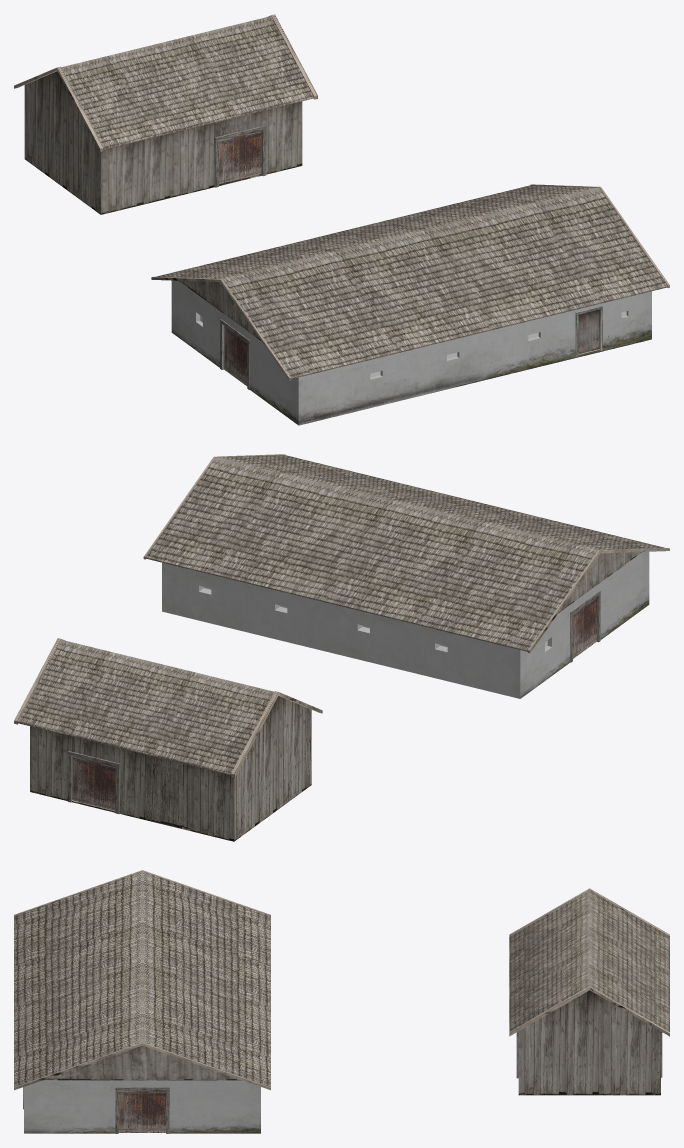
The model's file is uploads_files_2206295_Stall+und+Stadl_1701.FBX.
The picture shows the model from 3 angles, top to bottom: view 1: azimuth 30°, elevation 25°; view 2: azimuth 150°, elevation 25°; view 3: azimuth 270°, elevation 25°; orthographic projection. The views are drawn at different scales.
Parts seen in each view (by area): view 1: stall dach, stall, wh anb dach005, wh-anbau001, stalltor007, stalltor009, stalltür007, wh anb dach007, stall dach002; view 2: stall dach, stall, wh anb dach005, wh-anbau001, stalltor008, stalltor009, wh anb dach007, stall dach002; view 3: stall dach, wh anb dach005, stall, wh-anbau001, stalltor010, stall dach001, wh anb dach006, stall dach002, wh anb dach007.
Boxes of the visible parts, x1,y1,x2,y2 form: stall dach: (155,185,667,379); stall: (171,280,651,425); wh anb dach005: (61,16,316,150); wh-anbau001: (24,71,302,214); stalltor007: (214,125,266,187); stalltor009: (220,319,249,389); stalltür007: (575,306,602,356); wh anb dach007: (14,66,103,151); stall dach002: (151,276,291,380); stall dach: (145,455,664,651); stall: (162,551,649,698); wh anb dach005: (15,640,274,775); wh-anbau001: (30,696,311,841); stalltor008: (67,751,119,813); stalltor009: (570,590,600,662); wh anb dach007: (231,691,322,777); stall dach002: (528,548,669,653); stall dach: (14,871,270,1086); wh anb dach005: (509,891,669,1031); stall: (24,1045,260,1133); wh-anbau001: (518,990,660,1095); stalltor010: (115,1087,169,1133); stall dach001: (14,1042,270,1090); wh anb dach006: (509,985,669,1036); stall dach002: (14,870,270,915); wh anb dach007: (509,888,669,936).
Size of the model in its own units: 17.31 by 5.26 by 27.71.
